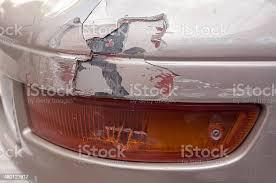rear-bumper-dent: (0, 0, 267, 132)
